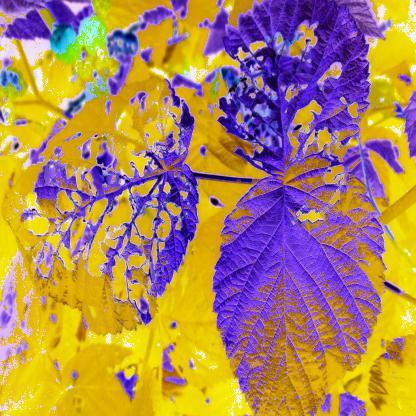Raspberry leaf: (214, 172, 386, 416)
